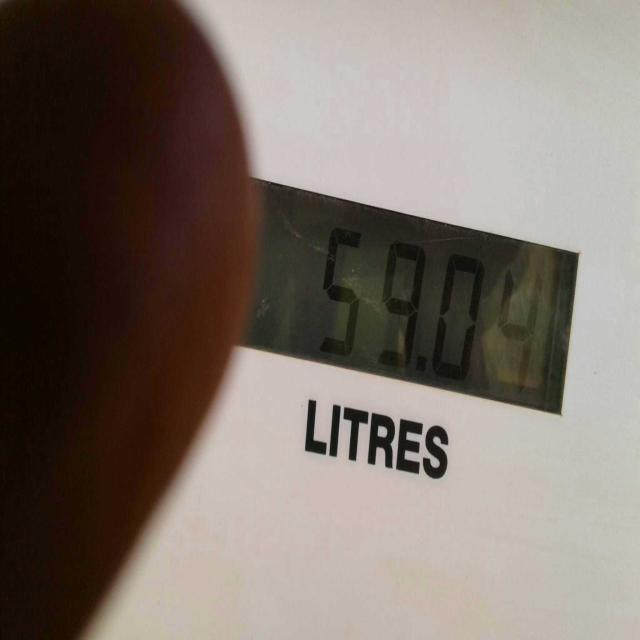.: (408, 346, 433, 392)
0: (432, 249, 486, 386)
4: (493, 256, 557, 390)
5: (306, 210, 368, 367)
9: (369, 227, 428, 382)
